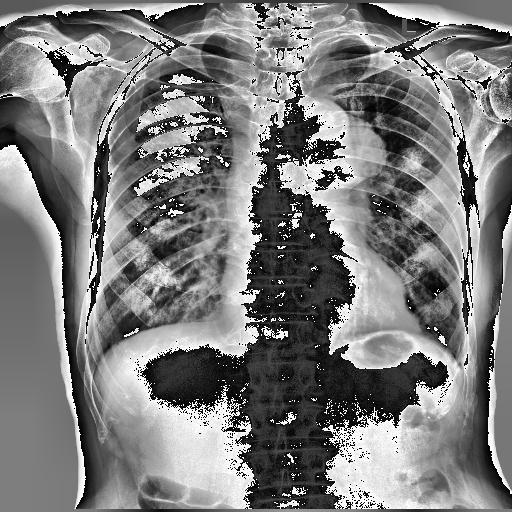0- Aortic enlargement: (279, 97, 349, 154), (282, 96, 352, 152)
10- Pleural effusion: (83, 348, 107, 378), (450, 344, 470, 380)
11- Pleural thickening: (152, 27, 258, 63), (450, 344, 470, 380), (83, 348, 107, 378), (326, 34, 392, 42), (454, 337, 469, 372)
13- Pulmonary fibrosis: (134, 72, 244, 92)
7- Lung Opacity: (316, 123, 388, 187)
8- Nodule-Mass: (300, 125, 390, 193), (316, 123, 388, 187), (337, 126, 387, 177)
9- Other lesion: (414, 182, 447, 209), (413, 246, 441, 270), (399, 148, 425, 170), (400, 148, 422, 172), (432, 296, 452, 318), (457, 432, 474, 457), (136, 244, 150, 270), (465, 396, 478, 412), (466, 362, 476, 374), (456, 360, 466, 372)
